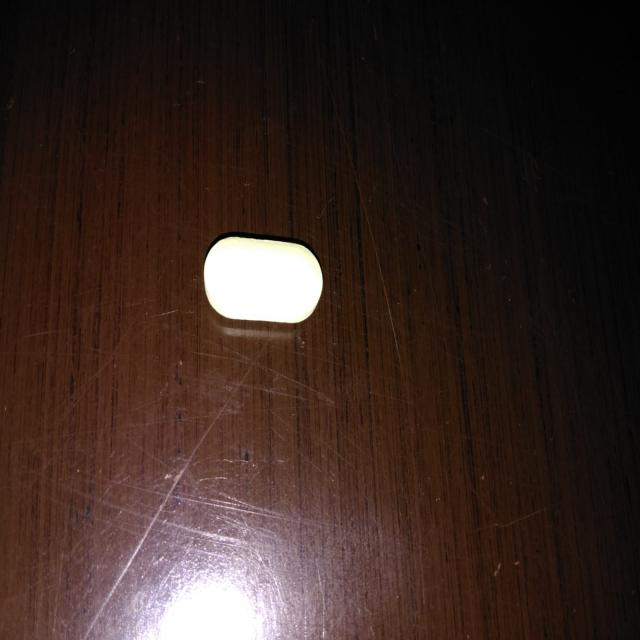pills: (194, 222, 335, 337)
